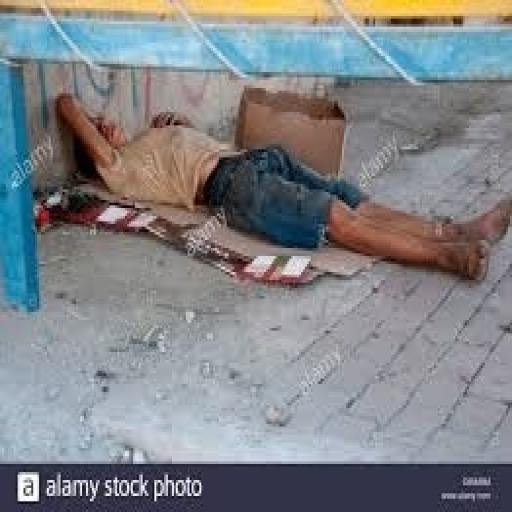sleeping: (47, 86, 510, 286)
